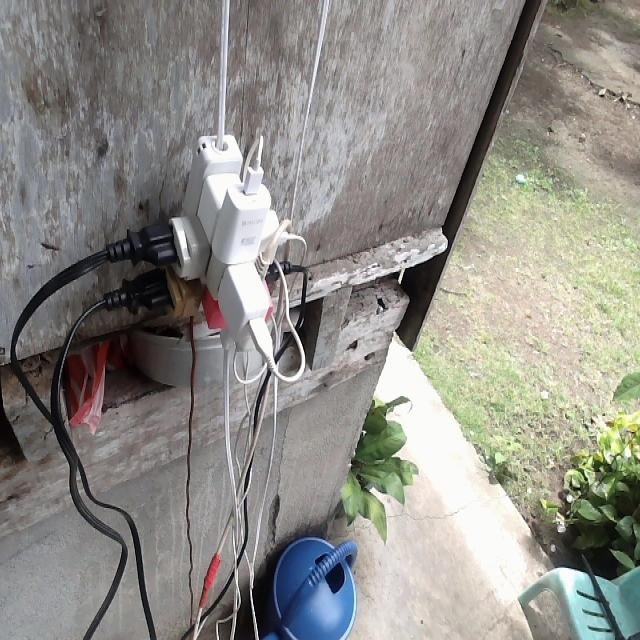-: (106, 131, 294, 372)
